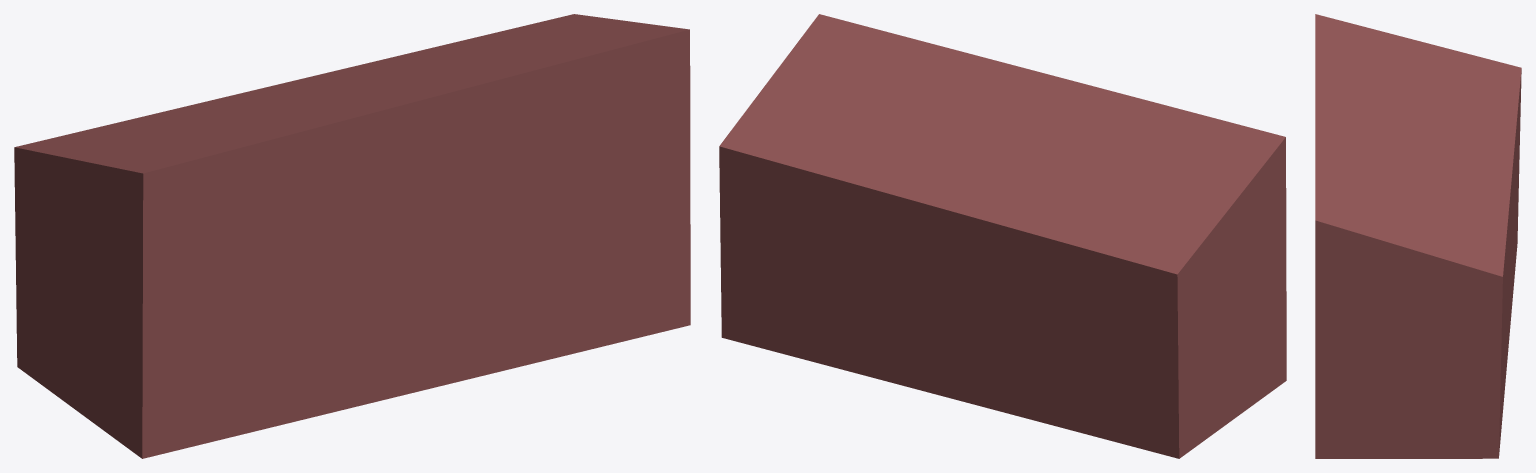
File: tunaAkami.fbx
The picture shows the model from 3 angles, left to right: view 1: azimuth 30°, elevation 25°; view 2: azimuth 150°, elevation 25°; view 3: azimuth 270°, elevation 25°; orthographic projection. The views are drawn at different scales.
Visible parts, largest first — view 1: tunaAkami; view 2: tunaAkami; view 3: tunaAkami.
Part boxes in pixels (x1,y1,x2,y2): tunaAkami: [14, 14, 690, 458]; tunaAkami: [719, 14, 1286, 458]; tunaAkami: [1315, 14, 1521, 458].
Bounding box in the file's own units: 22.57 × 11.64 × 9.13.
1 material, 1 textured.
